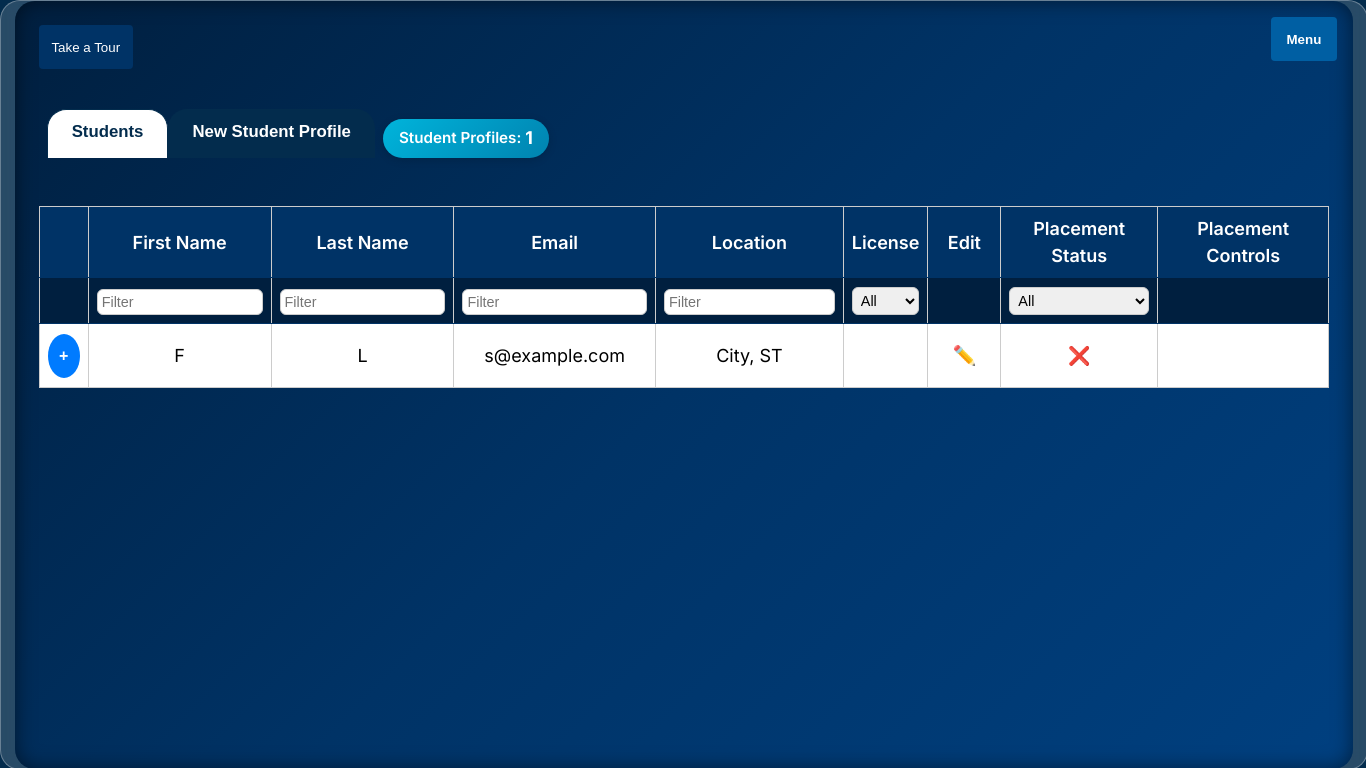
it: shows placement controls after job stats load
What coordinates should you click on to do the following:
click the button titled "Expand"
I would click on:
 (64, 356)
Its box is 48,334 -> 80,378.
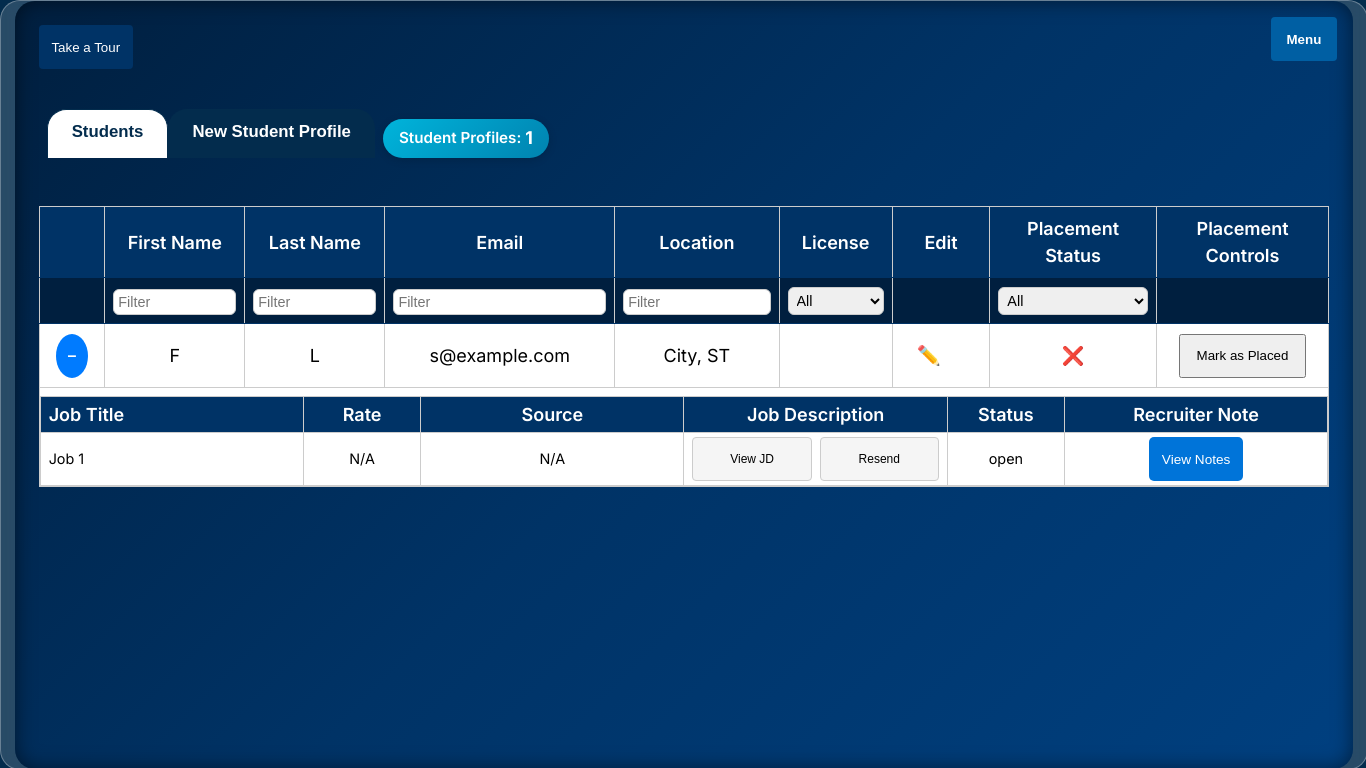
Check: the button "Mark as Placed" is shown, box 1179,334 -> 1306,378
